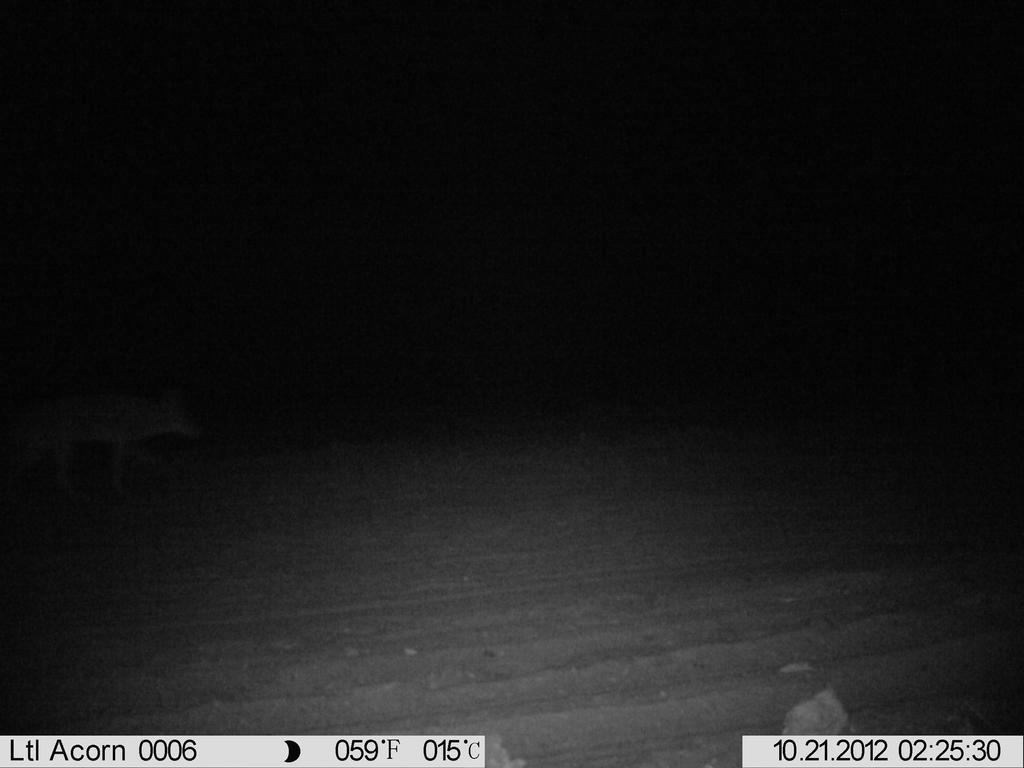coyote: (7, 363, 227, 521)
